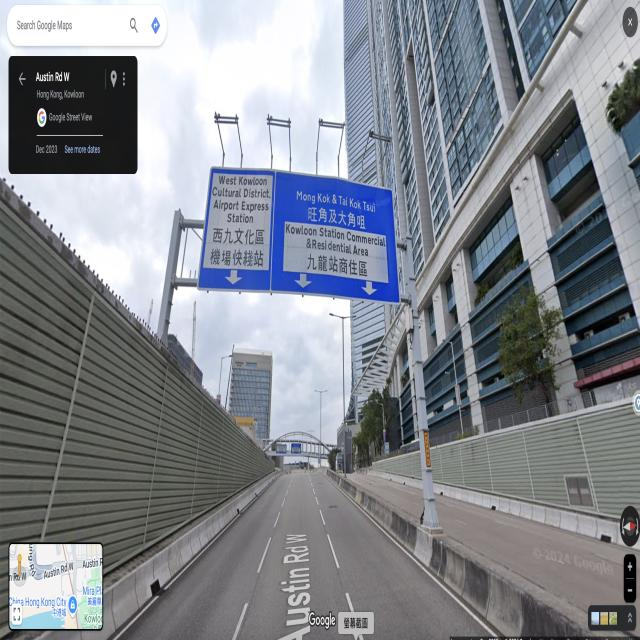Direction-Sign: (198, 165, 400, 303)
